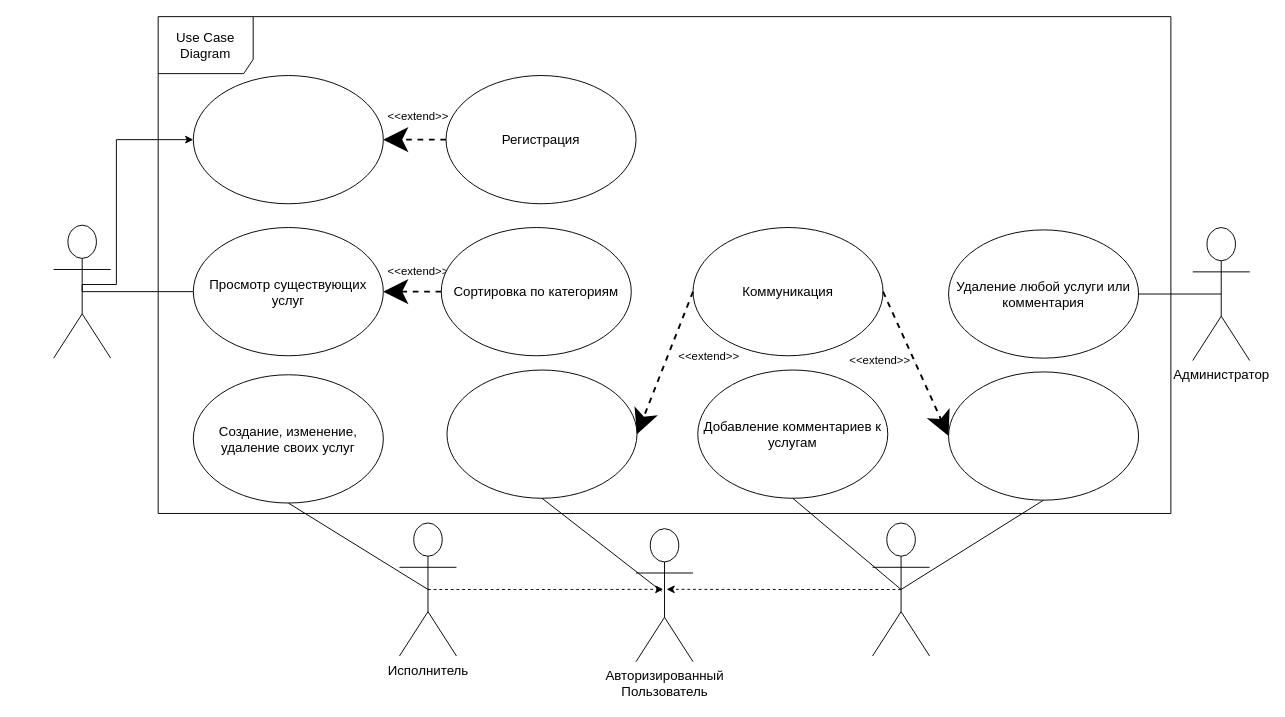
The diagram is 1285 pixels wide and 717 high, and some of its shapes have lost their labels. Each missing label, with the centre of its shape:
Авторизация: point 287,139
Заказчик: point 901,589
Неавторизированный Пользователь: point 82,291
Просмотр своих чатов: point 541,433
Создание чата с исполнителями услуг: point 1043,435
